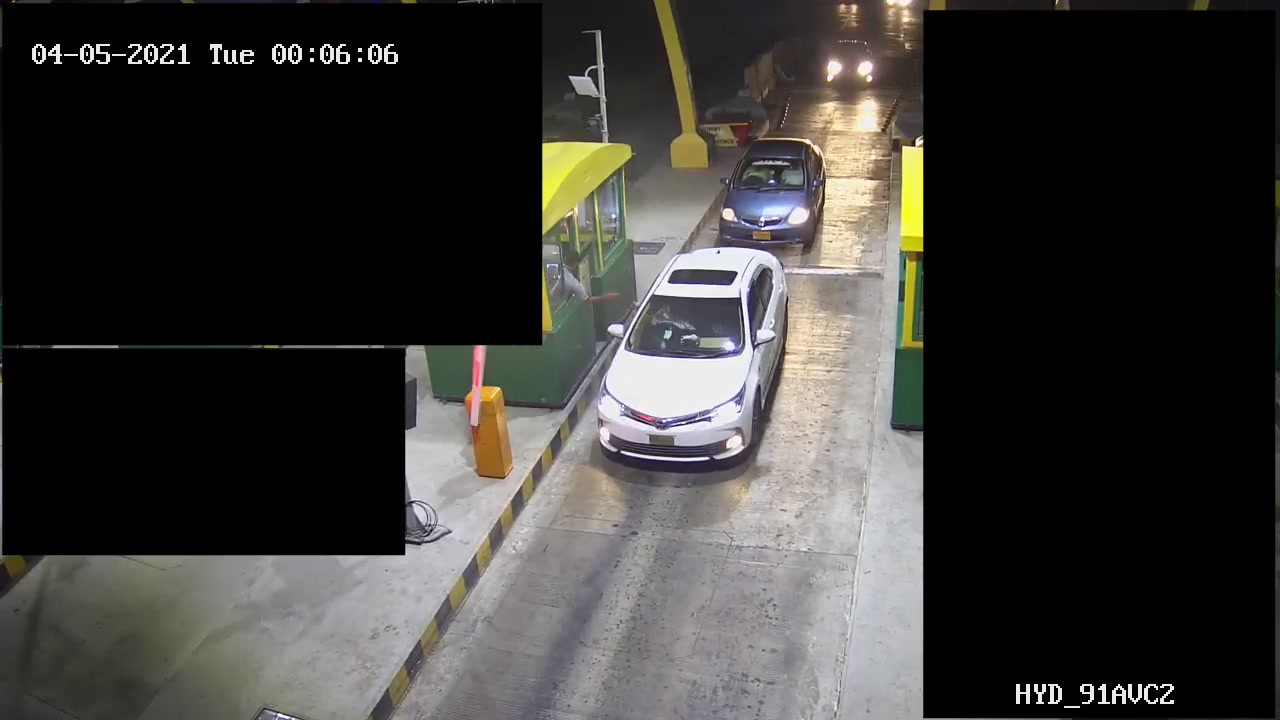F1: (588, 247, 800, 492), (709, 130, 832, 244)
